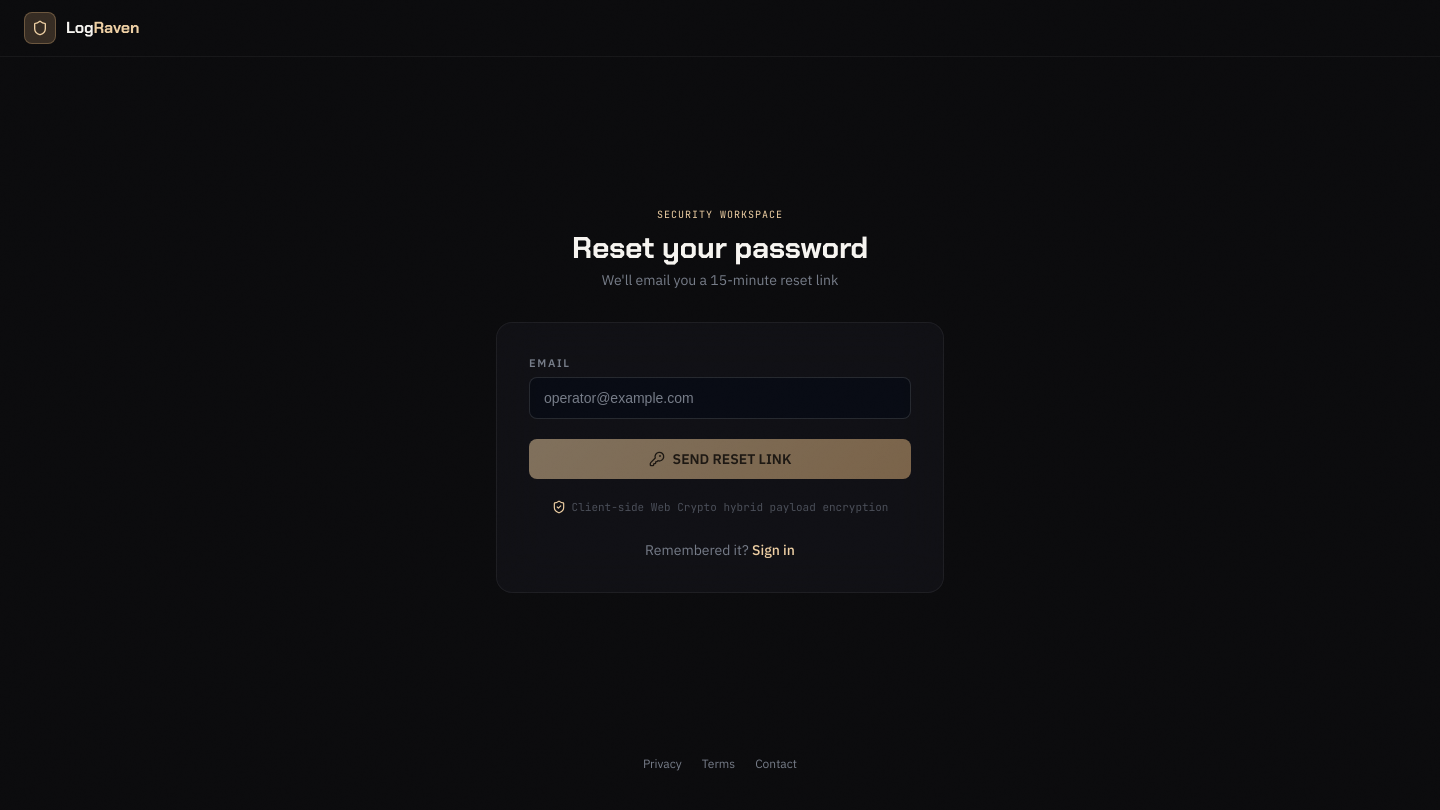
Test: ForgotPassword › encrypts email and shows neutral confirmation message on submit
Type "operator@lograven.io" into the field labelled "Email".
click(720, 398); type("operator@lograven.io")  # box [529,377,911,419]
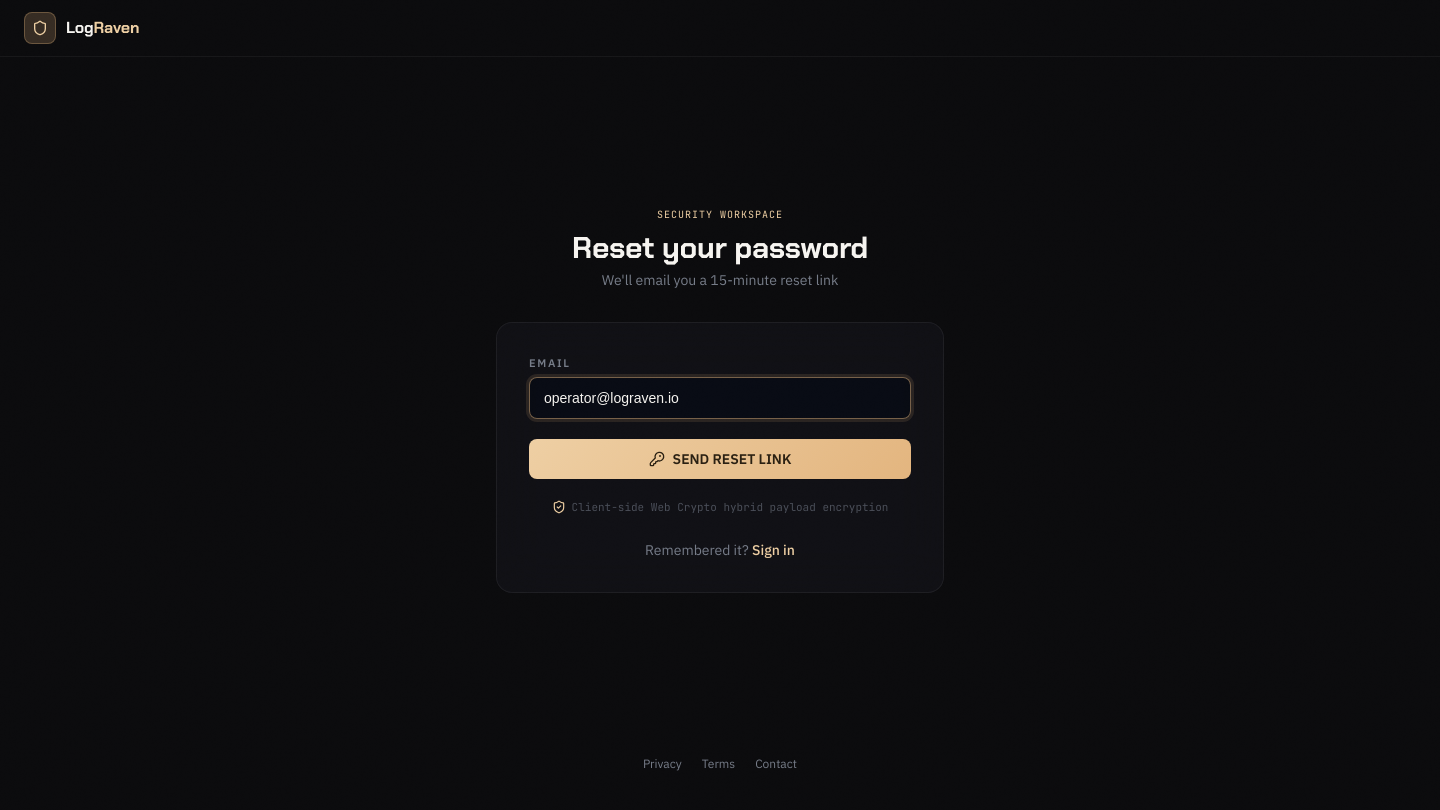
Click the button "Send reset link".
click(720, 459)  # box [529,439,911,479]
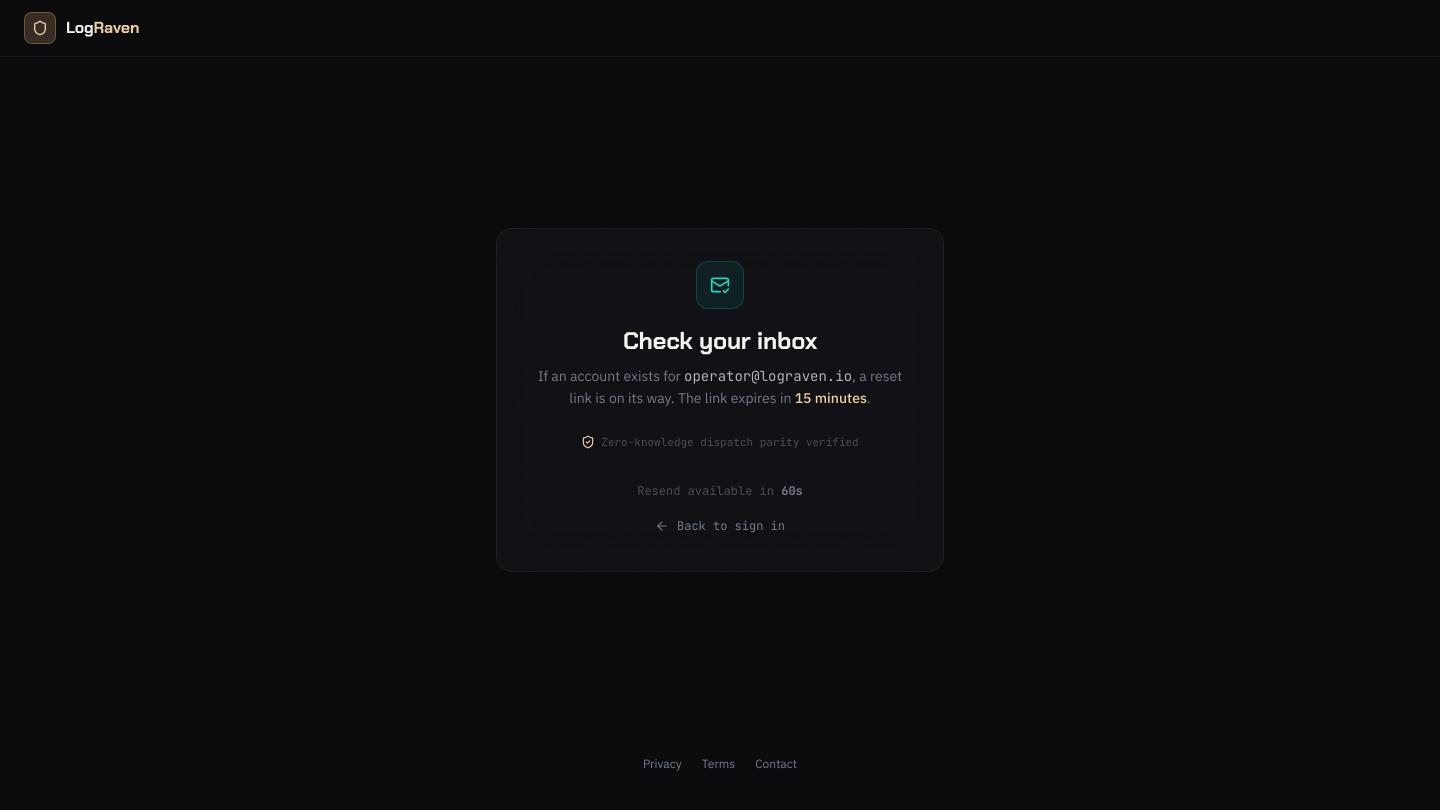
Check: the element with test id "forgot-password-success" is shown, box [496,228,944,572]
Check: the heading "Check your inbox" is shown, box [623,324,817,356]
Check: the text "15 minutes" is shown, box [795,389,867,407]
